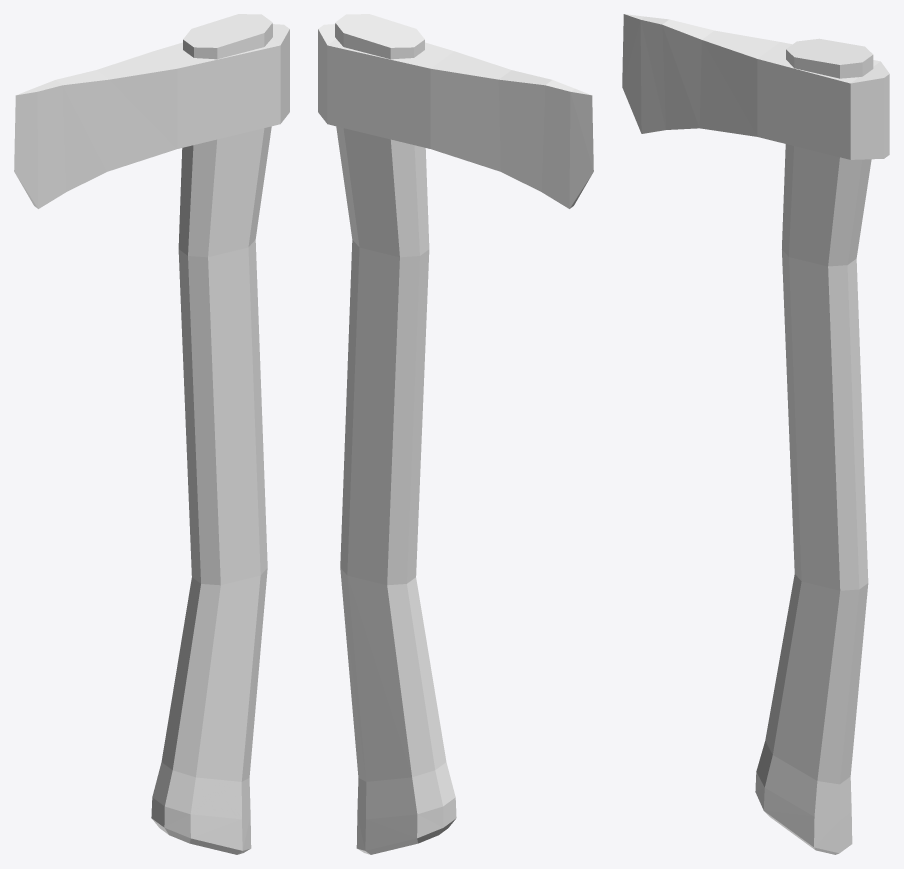
File: Tool_Axe_02.glb
The picture shows the model from 3 angles, left to right: view 1: azimuth 30°, elevation 25°; view 2: azimuth 150°, elevation 25°; view 3: azimuth 330°, elevation 25°; orthographic projection. The views are drawn at different scales.
Parts seen in each view (by area): view 1: Tool_Axe_02; view 2: Tool_Axe_02; view 3: Tool_Axe_02.
Part boxes in pixels (<box>): Tool_Axe_02: <box>14,14,289,854</box>; Tool_Axe_02: <box>318,14,593,854</box>; Tool_Axe_02: <box>622,14,889,854</box>.
Size of the model in its own units: 0.3559 by 1.03 by 0.0705.
Materials: 1 (1 with a texture image).
